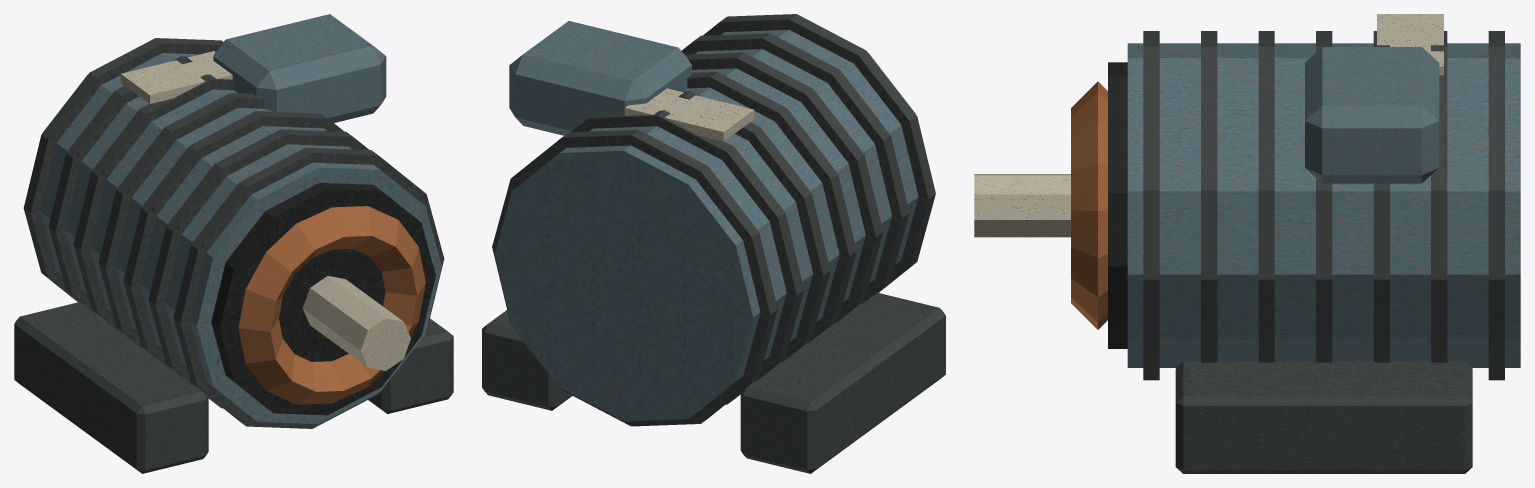
Rendered from CompactMotor.fbx.
The picture shows the model from 3 angles, left to right: view 1: azimuth 30°, elevation 25°; view 2: azimuth 150°, elevation 25°; view 3: azimuth 270°, elevation 25°; orthographic projection. The views are drawn at different scales.
Visible parts, largest first — view 1: CompactMotor; view 2: CompactMotor; view 3: CompactMotor.
Part boxes in pixels (box(x1,y1,x2,y2)): CompactMotor: box(14, 14, 453, 473); CompactMotor: box(482, 14, 945, 473); CompactMotor: box(974, 14, 1520, 473).
Bounding box in the file's own units: 44 × 41.5 × 57.
Materials: 1 (1 with a texture image).
